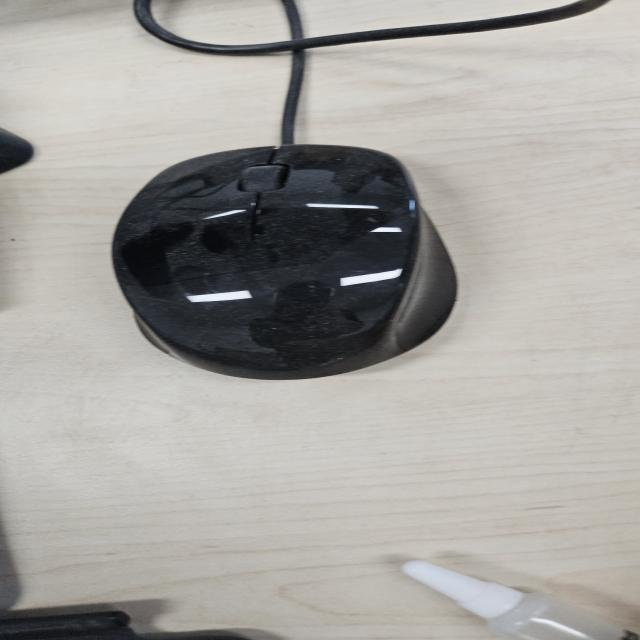Mouse: (109, 142, 462, 381)
